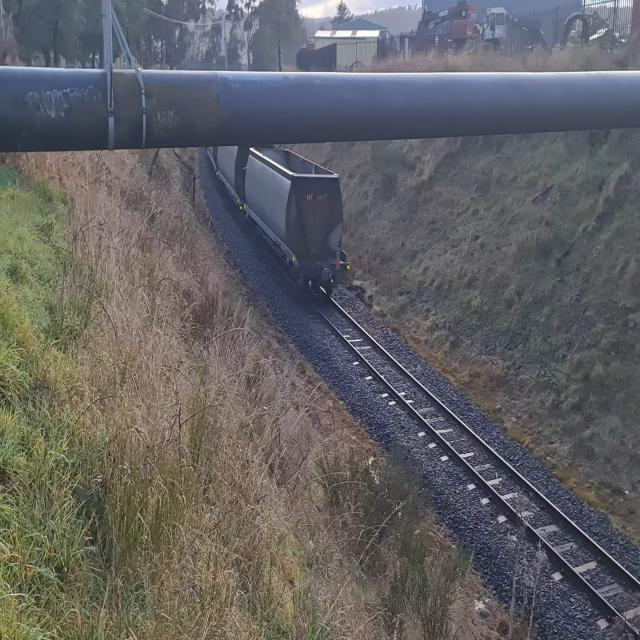hopper: (239, 141, 353, 310)
